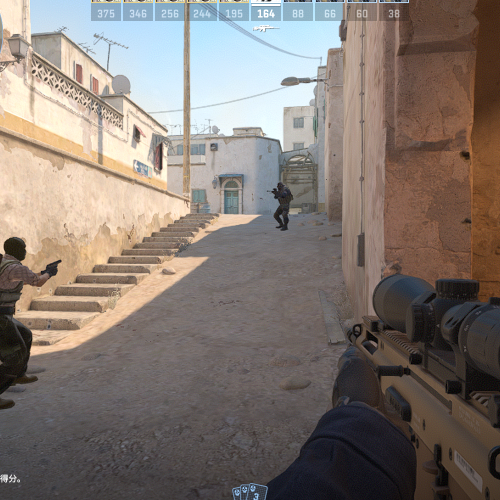ct_body: (271, 181, 294, 232)
ct_head: (277, 180, 285, 191)
t_body: (0, 236, 50, 413)
t_head: (2, 235, 27, 264)
